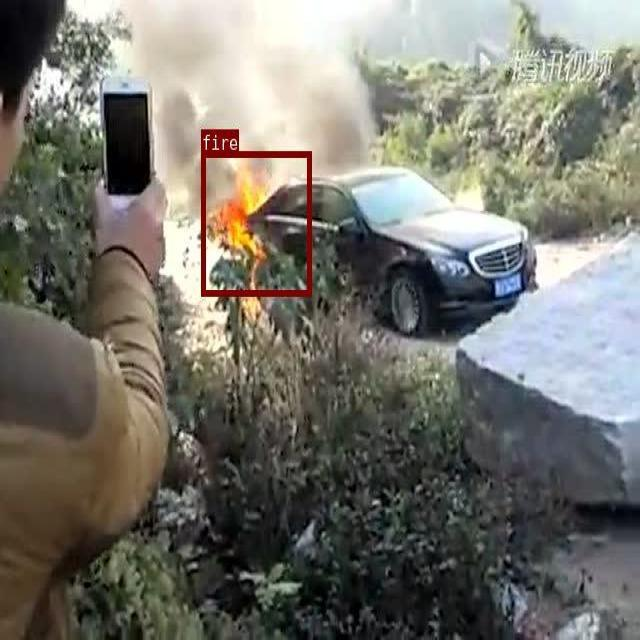fire: (201, 151, 311, 295)
